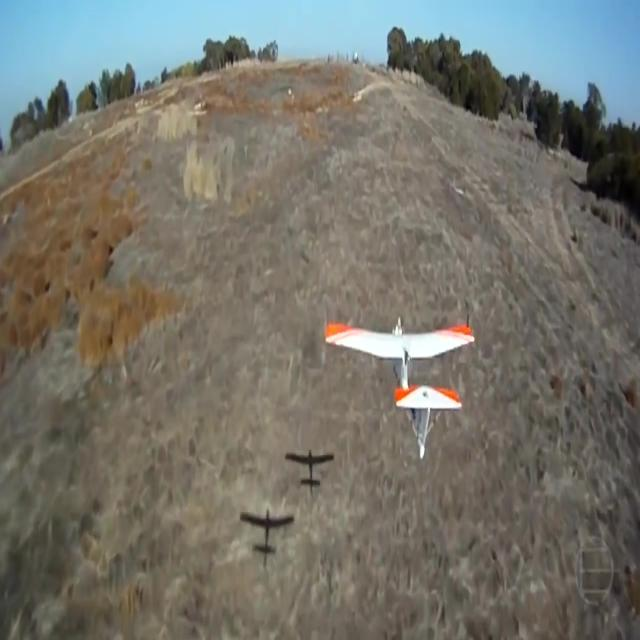iha: (324, 317, 475, 461)
